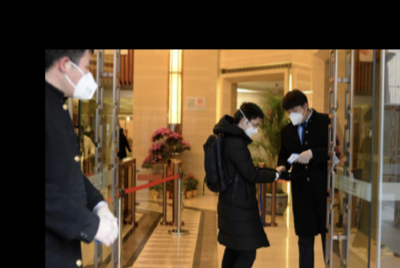with_mask: (68, 57, 97, 103), (286, 107, 304, 127), (244, 122, 259, 137), (84, 125, 89, 133)
